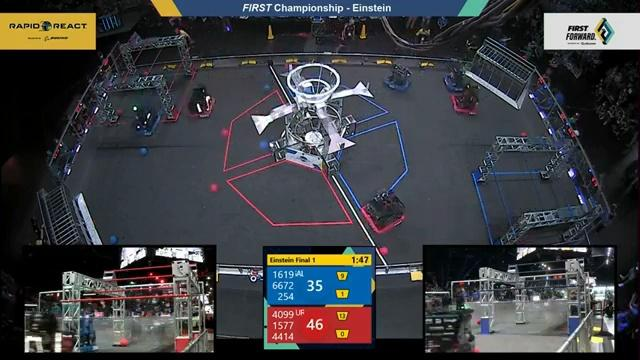robot: (353, 187, 412, 239), (377, 62, 419, 100), (182, 84, 219, 122), (127, 100, 162, 138), (451, 83, 483, 121), (441, 58, 469, 93)
